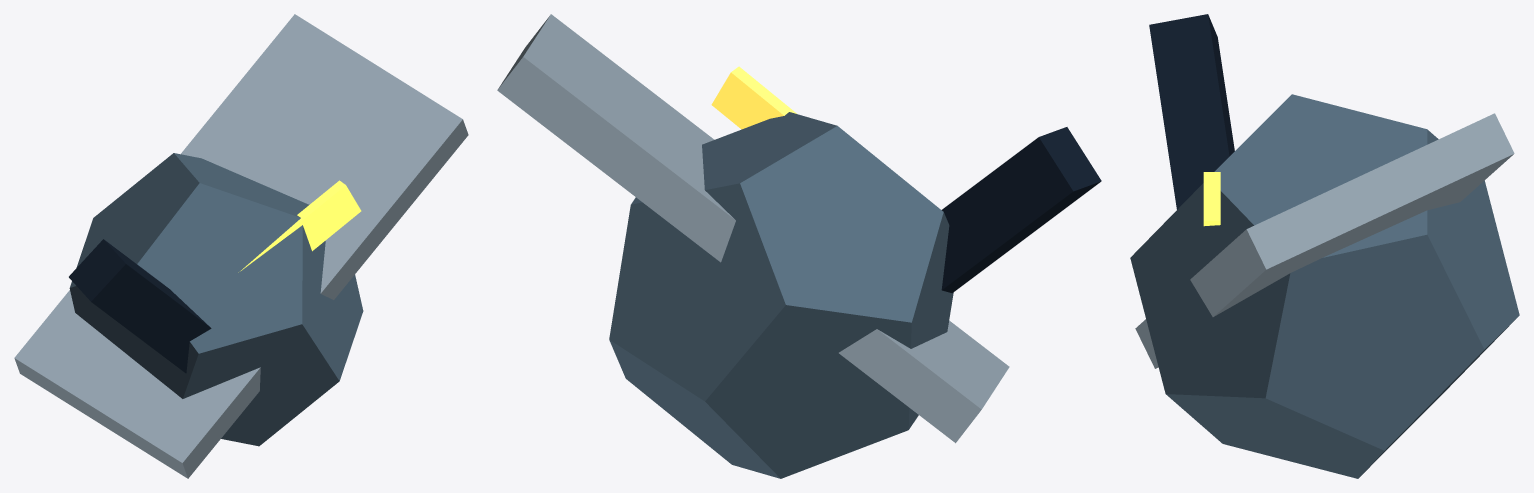
The model's file is device-debris.glb.
3 views of the same model, side by side, from view 1: azimuth 30°, elevation 25°; view 2: azimuth 150°, elevation 25°; view 3: azimuth 270°, elevation 25° (orthographic). The views are drawn at different scales.
Parts seen in each view (by area): view 1: broken-panel, debris-core, broken-rib, hazard-mark; view 2: debris-core, broken-panel, broken-rib, hazard-mark; view 3: debris-core, broken-panel, broken-rib, hazard-mark.
Boxes of the visible parts, x1,y1,x2,y2 form: broken-panel: [14, 14, 468, 478]; debris-core: [69, 153, 363, 446]; broken-rib: [69, 239, 211, 373]; hazard-mark: [238, 180, 361, 272]; debris-core: [609, 112, 953, 478]; broken-panel: [497, 14, 1009, 443]; broken-rib: [941, 127, 1101, 293]; hazard-mark: [711, 66, 796, 129]; debris-core: [1130, 94, 1519, 478]; broken-panel: [1135, 113, 1514, 368]; broken-rib: [1149, 14, 1234, 209]; hazard-mark: [1203, 172, 1220, 226].
Size of the model in its own units: 1.68 by 1.29 by 1.04.
